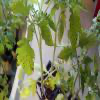Tomato Septoria leaf spot: (15, 39, 36, 81), (68, 10, 83, 60), (36, 18, 56, 47), (56, 46, 75, 65), (43, 75, 56, 92)
